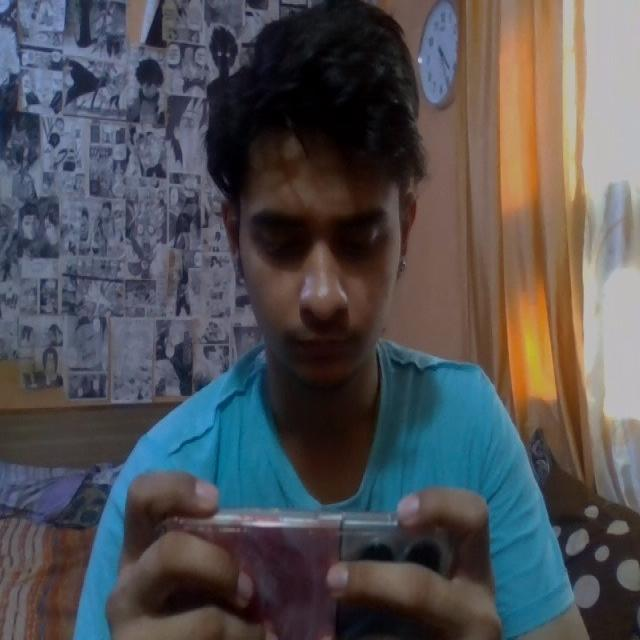phone: (148, 498, 462, 640)
using-phone: (69, 29, 597, 640)
